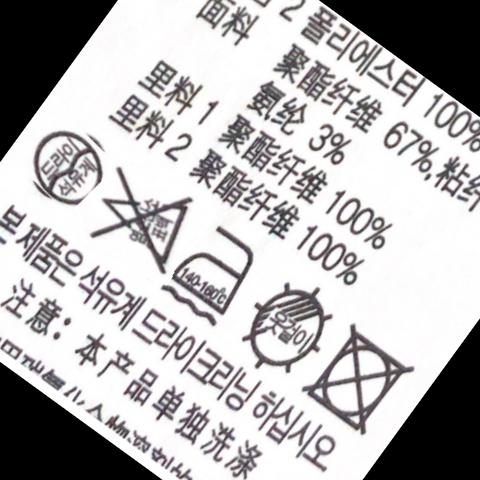DN_bleach: (100, 177, 193, 262)
DN_tumble_dry: (312, 325, 411, 428)
dry_clean_petrol_only: (35, 125, 107, 206)
iron_medium: (173, 227, 261, 309)
line_dry_in_shade: (243, 281, 332, 374)
